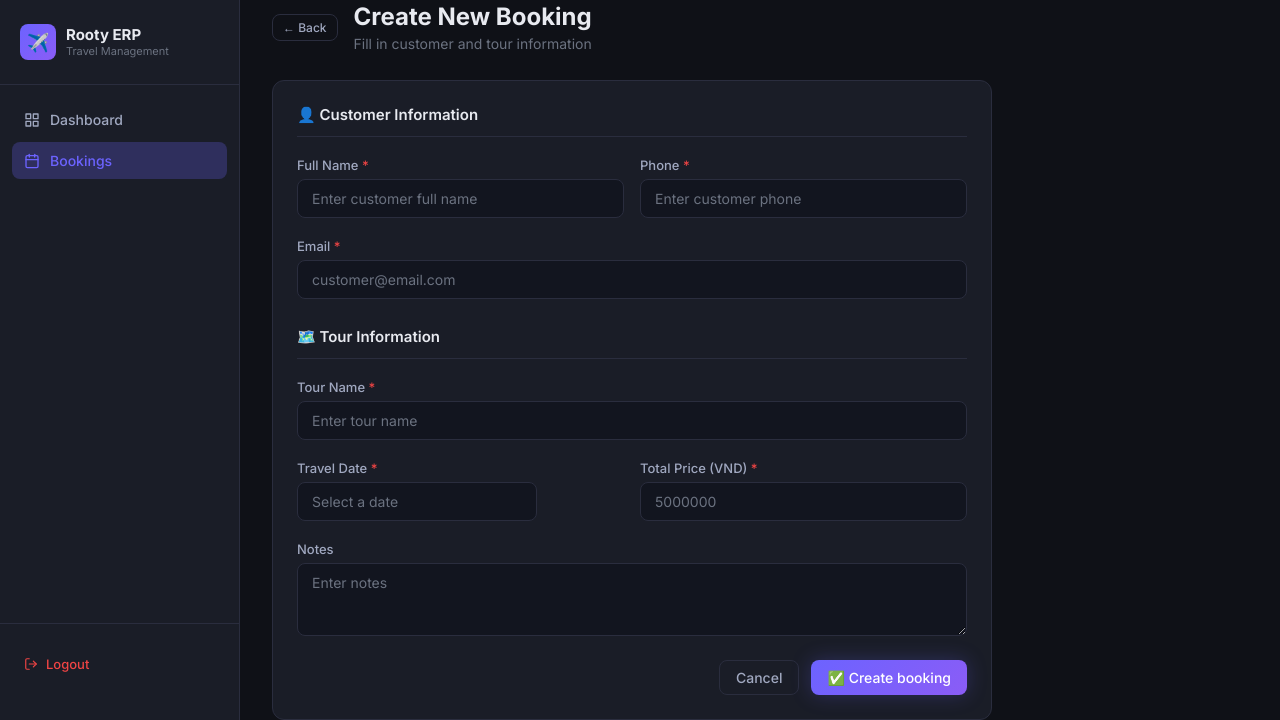
Test: Booking Form - Validation › báo lỗi khi bỏ trống toàn bộ các trường bắt buộc
(page scrolled)
Click the button with test id "booking-submit": x=890, y=678 [812,660,968,695]
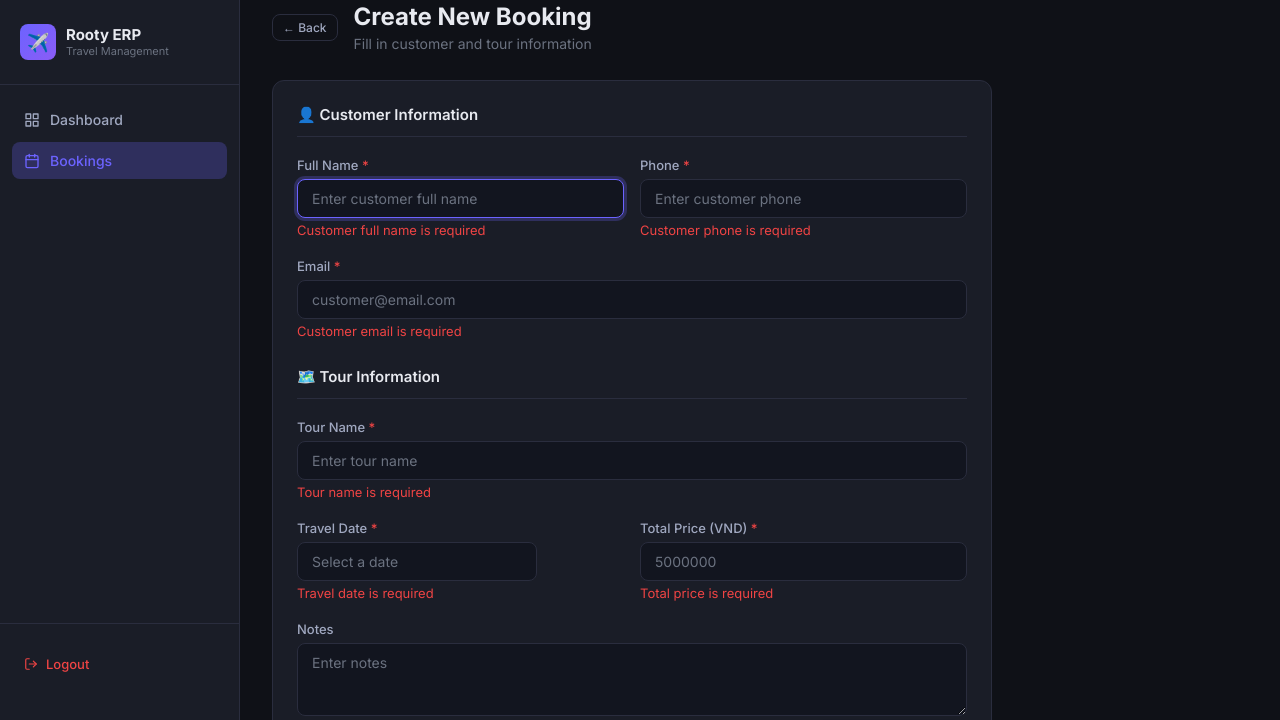
Check: the text "Customer full name is required" is shown, box [297,222,486,238]
Check: the text "Customer phone is required" is shown, box [640,222,811,238]
Check: the text "Customer email is required" is shown, box [297,323,462,339]
